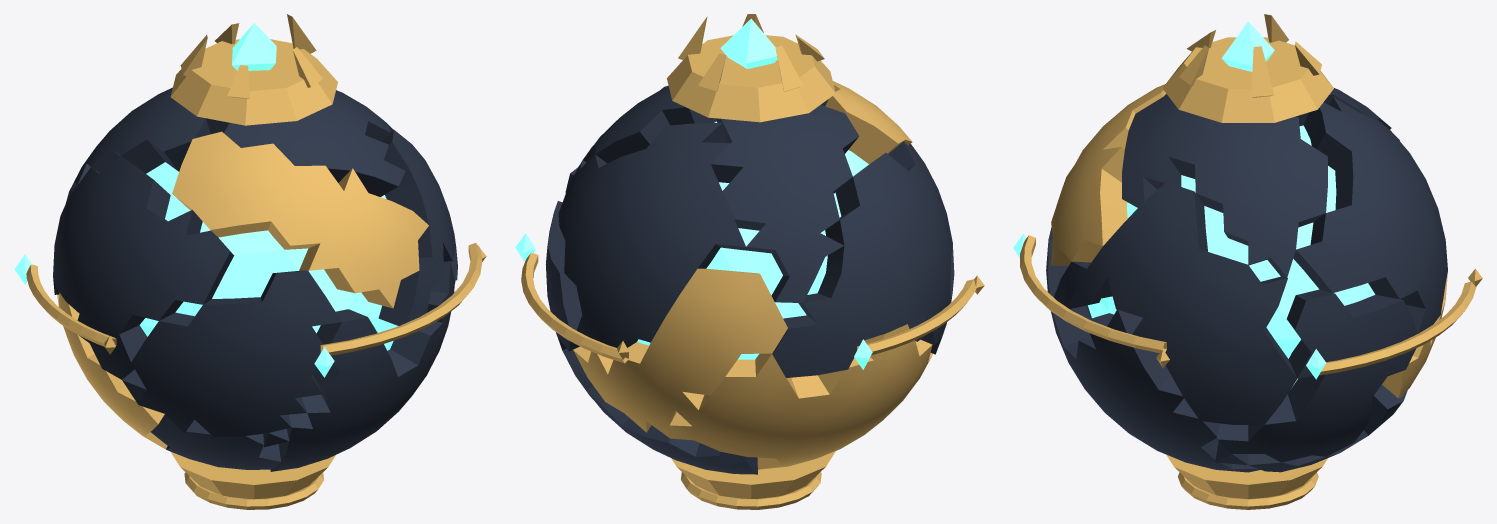
The model's file is bomb.glb.
3 renders of one model, left to right at view 1: azimuth 30°, elevation 25°; view 2: azimuth 150°, elevation 25°; view 3: azimuth 270°, elevation 25°, orthographic.
Parts seen in each view (by area): view 1: Shell, Crown, Heart, Base, Binding; view 2: Shell, Crown, Base, Binding, Heart; view 3: Shell, Crown, Heart, Binding, Base.
Boxes of the visible parts, x1,y1,x2,y2 form: Shell: [53, 87, 457, 471]; Crown: [170, 14, 337, 125]; Heart: [140, 162, 398, 350]; Base: [170, 451, 335, 509]; Binding: [14, 243, 486, 377]; Shell: [546, 81, 954, 474]; Crown: [667, 14, 835, 122]; Base: [671, 451, 835, 509]; Binding: [515, 233, 984, 369]; Heart: [637, 121, 868, 359]; Shell: [1046, 84, 1447, 472]; Crown: [1162, 14, 1333, 122]; Heart: [1088, 125, 1375, 386]; Binding: [1013, 233, 1482, 379]; Base: [1166, 454, 1327, 509].
Bounding box in the file's own units: 0.2028 × 0.2365 × 0.2078.
